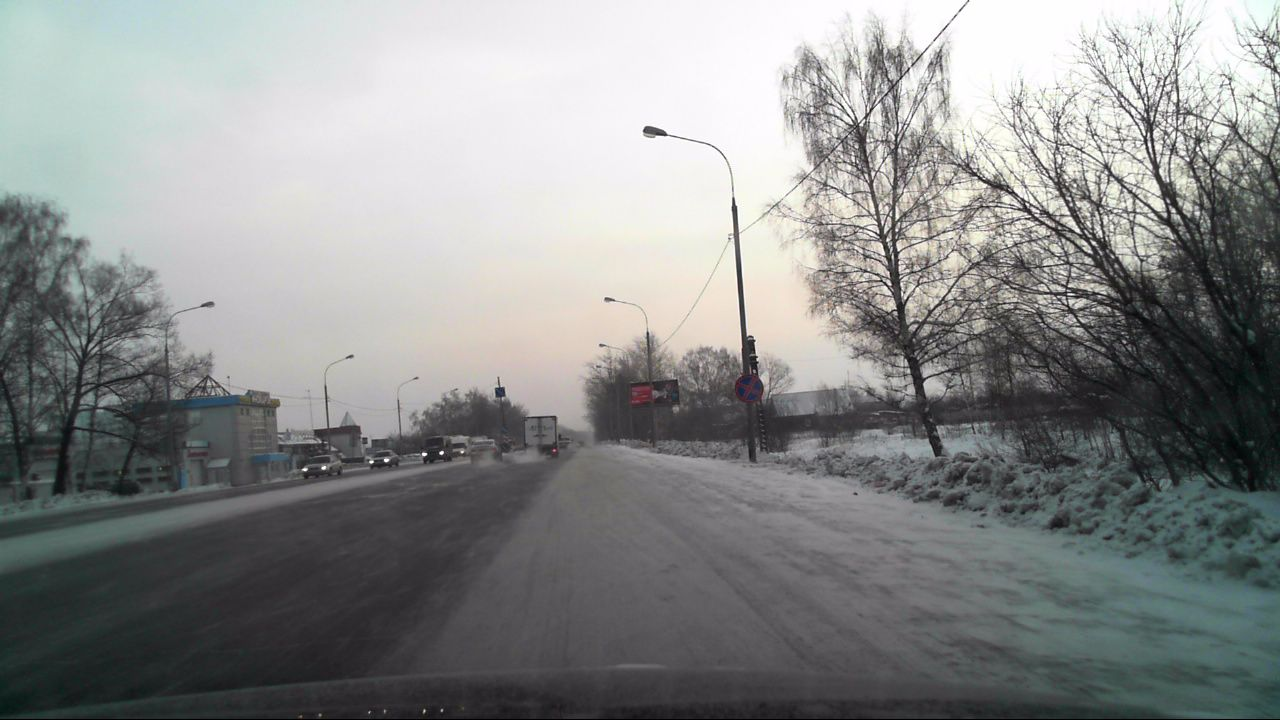No Parking: (733, 374, 764, 406)
